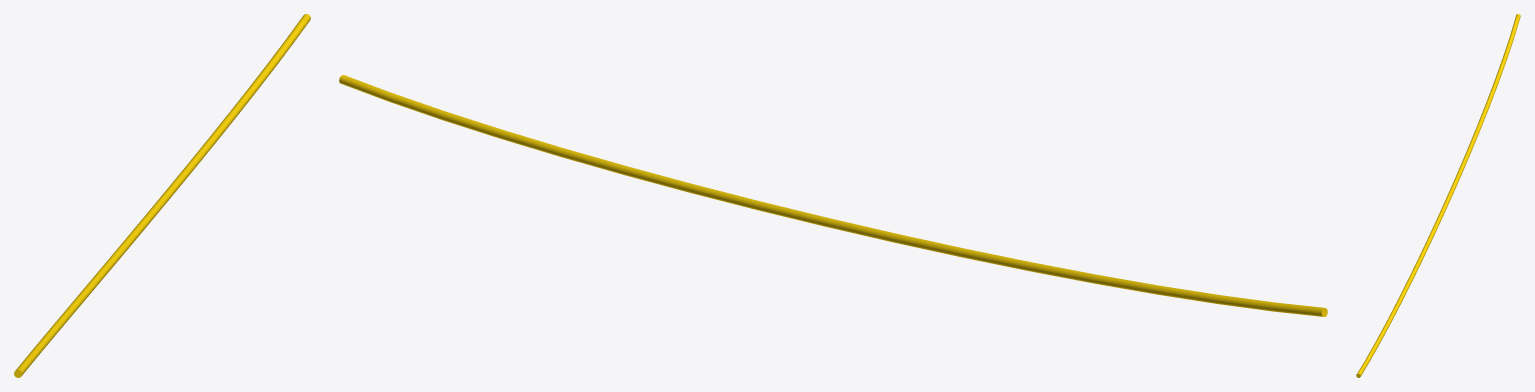
The model's file is Event_420094457_track_84.fbx.
3 renders of one model, left to right at view 1: azimuth 90°, elevation 25°; view 2: azimuth 150°, elevation 25°; view 3: azimuth 270°, elevation 25°, orthographic. The views are drawn at different scales.
Visible parts, largest first — view 1: Model; view 2: Model; view 3: Model.
Part boxes in pixels (left/top/right/bottom): Model: left=14, top=14, right=310, bottom=377; Model: left=339, top=75, right=1327, bottom=316; Model: left=1356, top=14, right=1520, bottom=377.
Bounding box in the file's own units: 5.69 × 0.8122 × 1.42.
